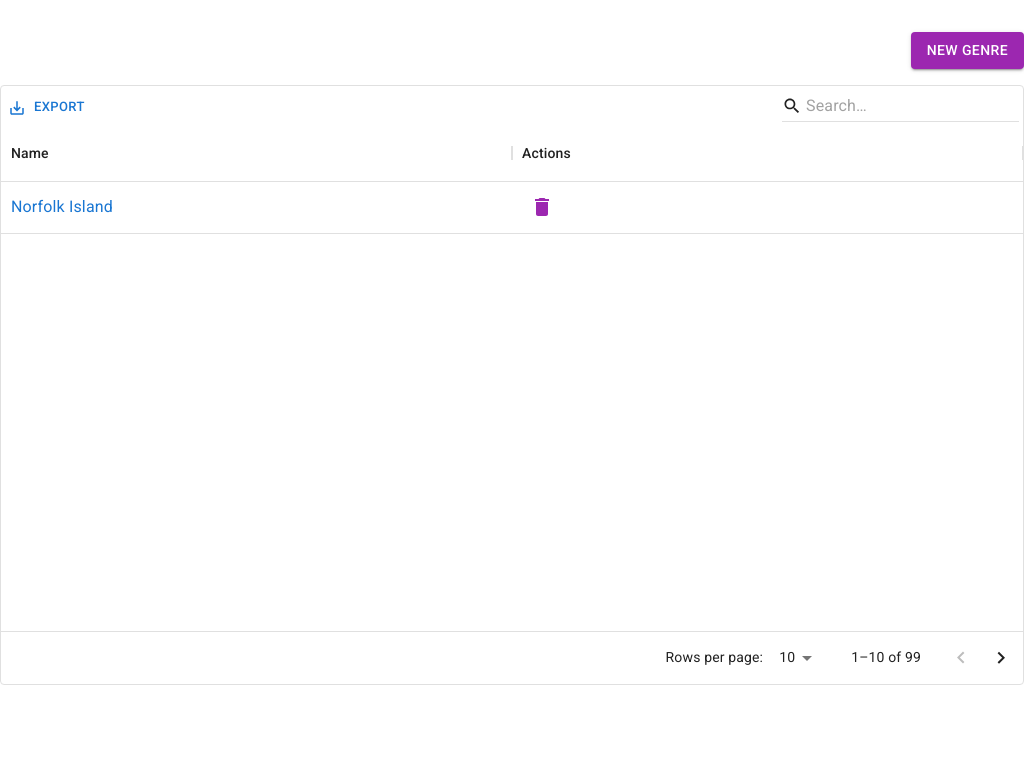
Test: GenreList › should handle Delete Genre success
The width and height of the screenshot is (1036, 768).
expect the text "Norfolk Island" is shown: met, box 11,195 -> 113,219
Click the button with test id "delete-button": (542, 207) 522,187 -> 562,227
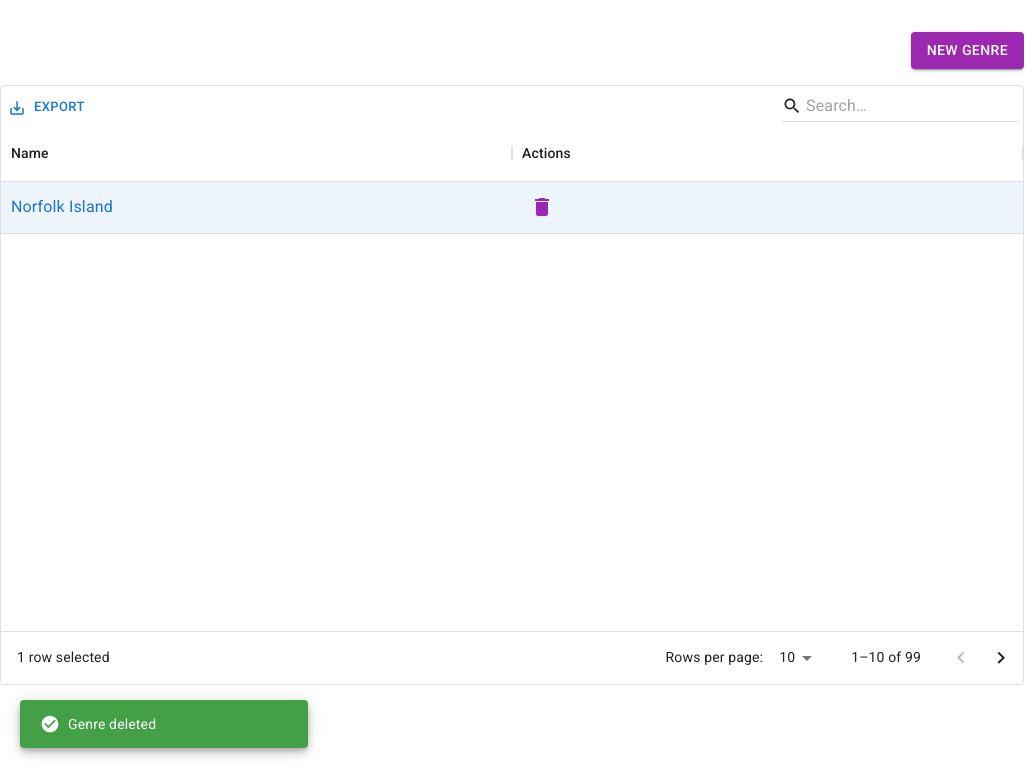
expect the text "Genre deleted" is shown: met, box 40,714 -> 156,734
